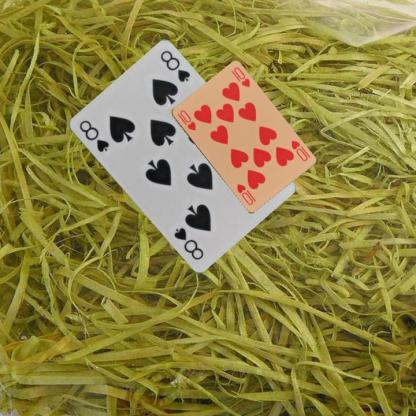10h: (288, 138, 312, 162), (175, 107, 197, 132)
8s: (76, 117, 110, 154)
